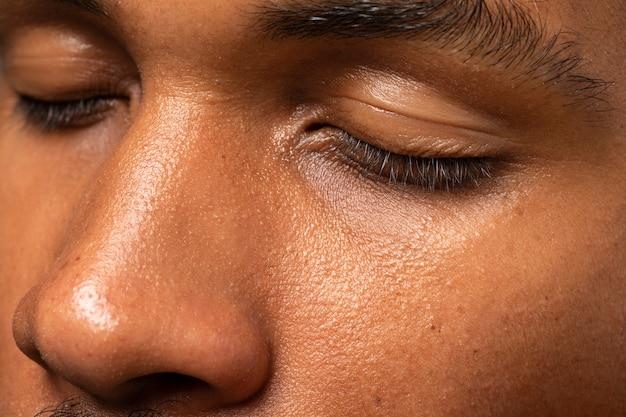Oily-Skin: (22, 17, 605, 358)
